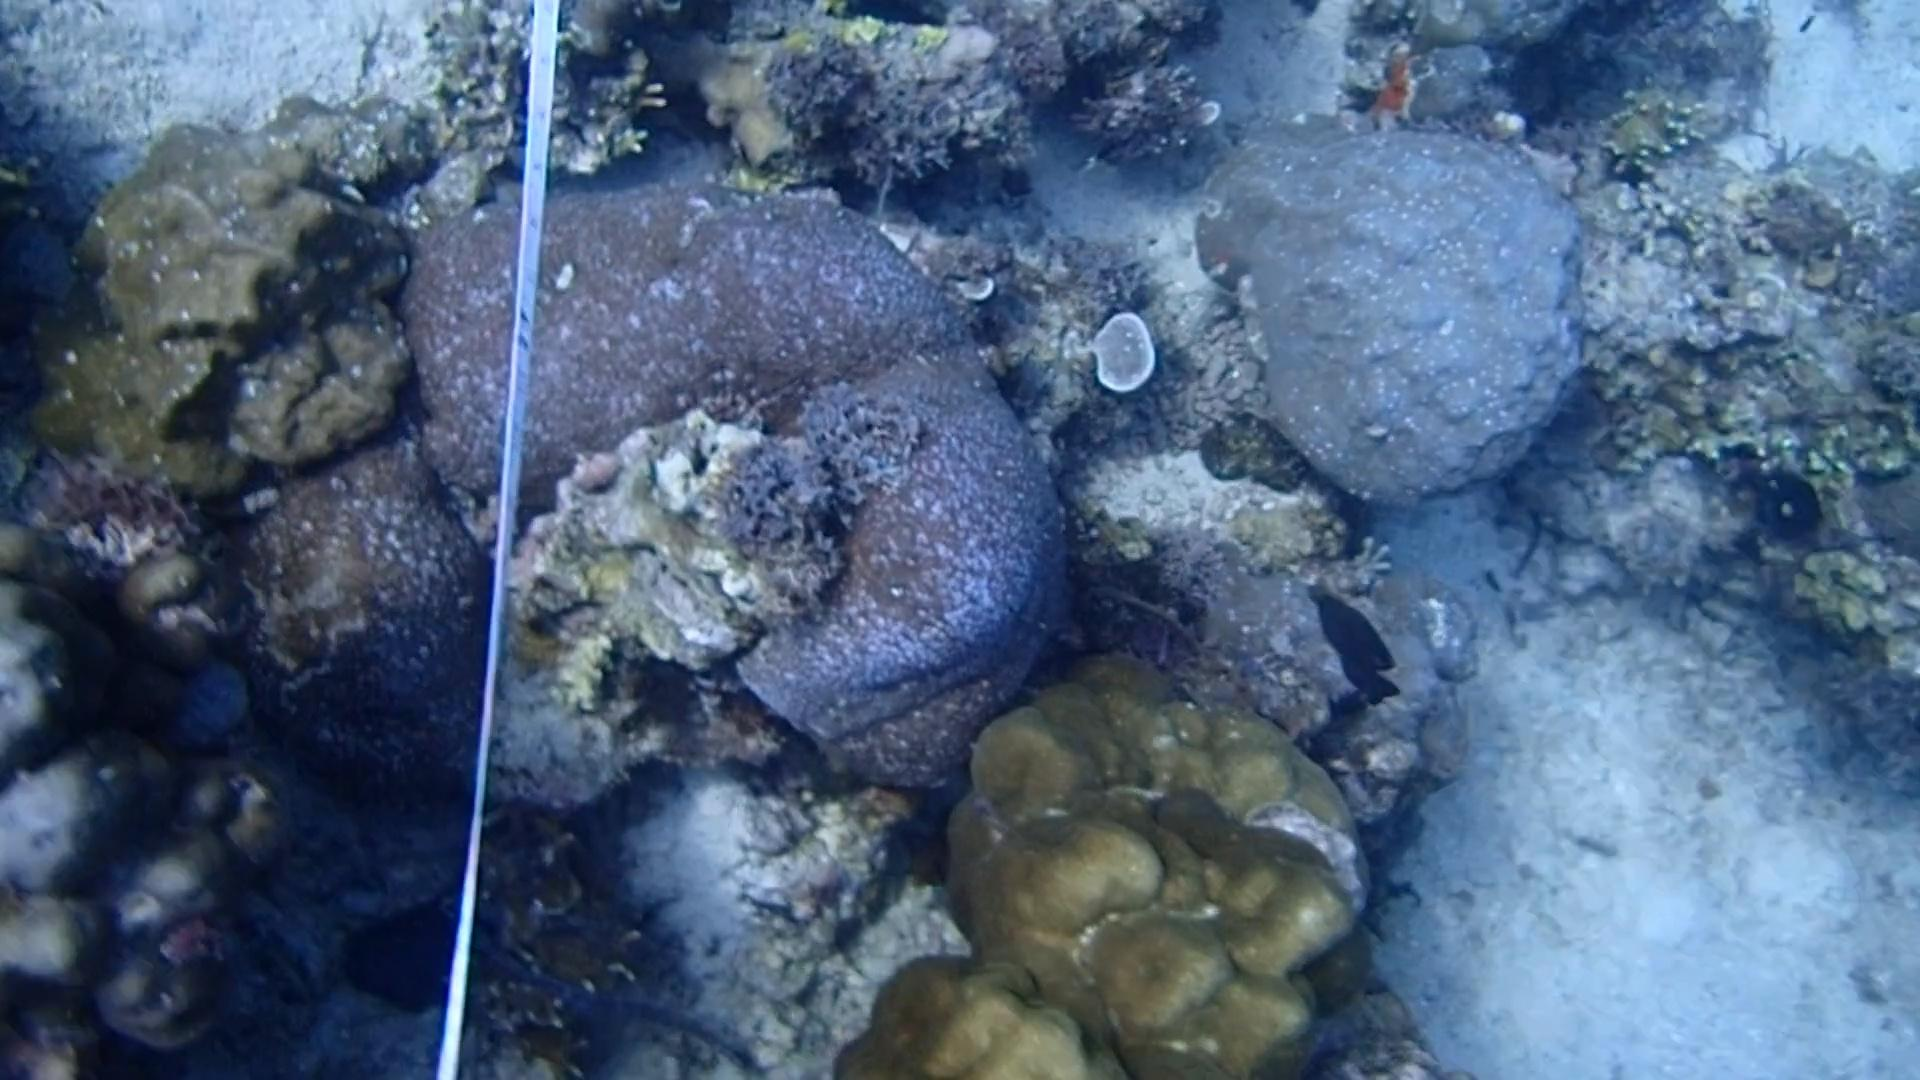Dark Fish: (1307, 588, 1399, 705)
